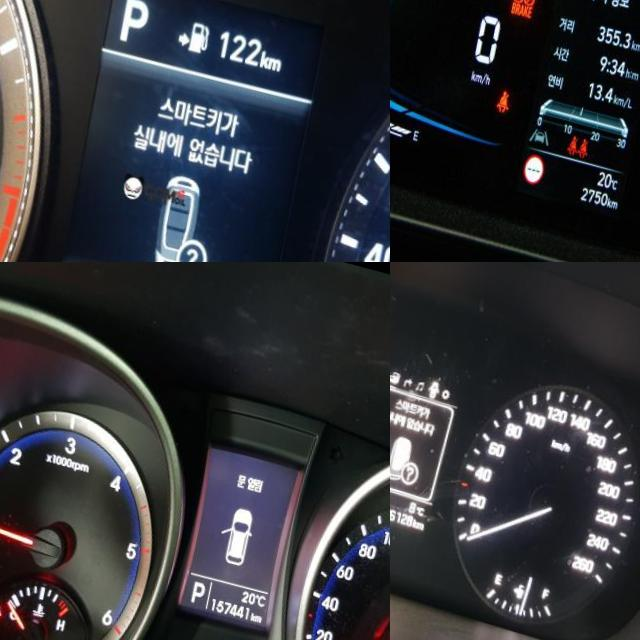Doors: (5, 596, 21, 615)
